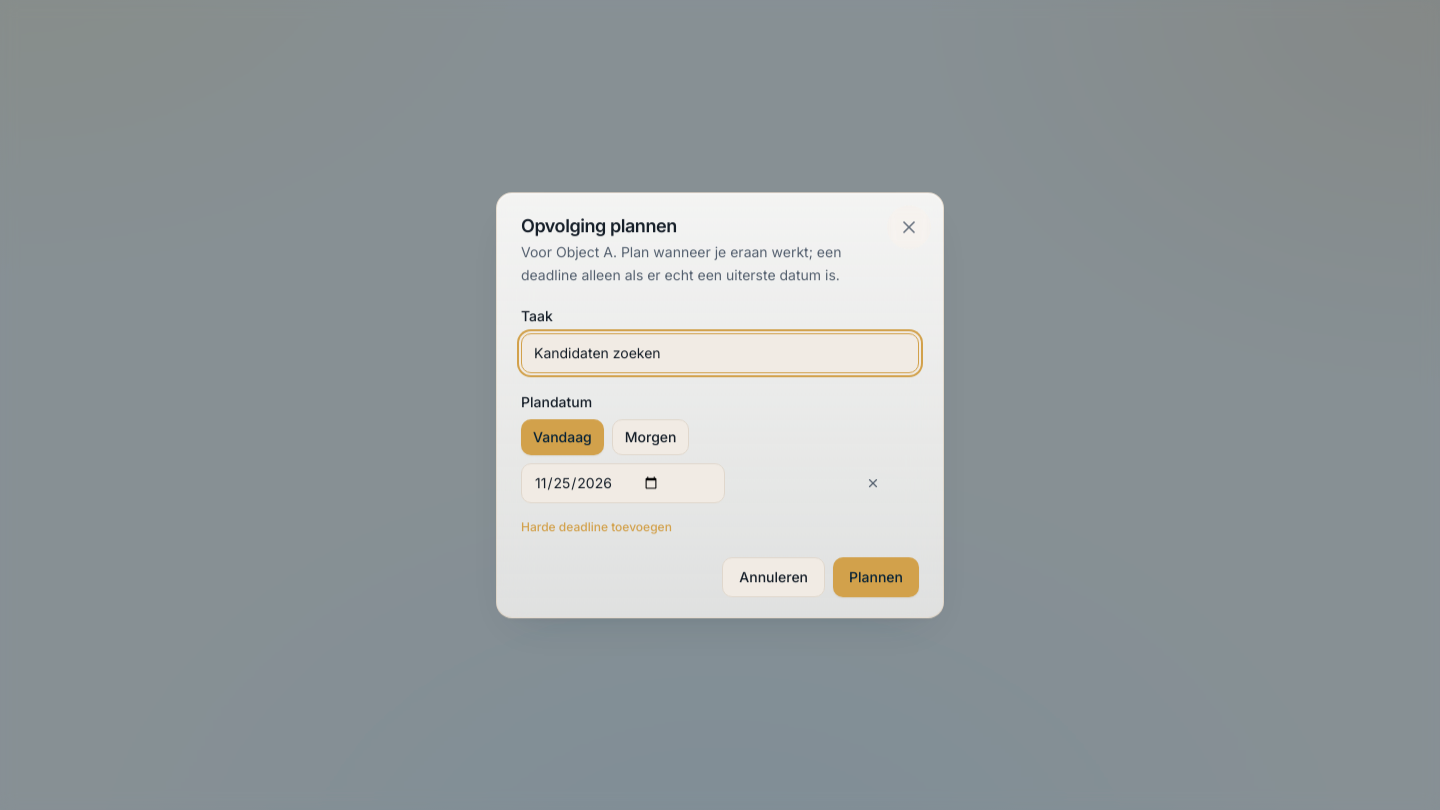
OpvolgingPlannenDialog › zonder deadline verdwijnt Harde deadline toevoegen na opslaan
The width and height of the screenshot is (1440, 810).
Click the button "Plannen" at [876, 577], box [833,557,919,597]
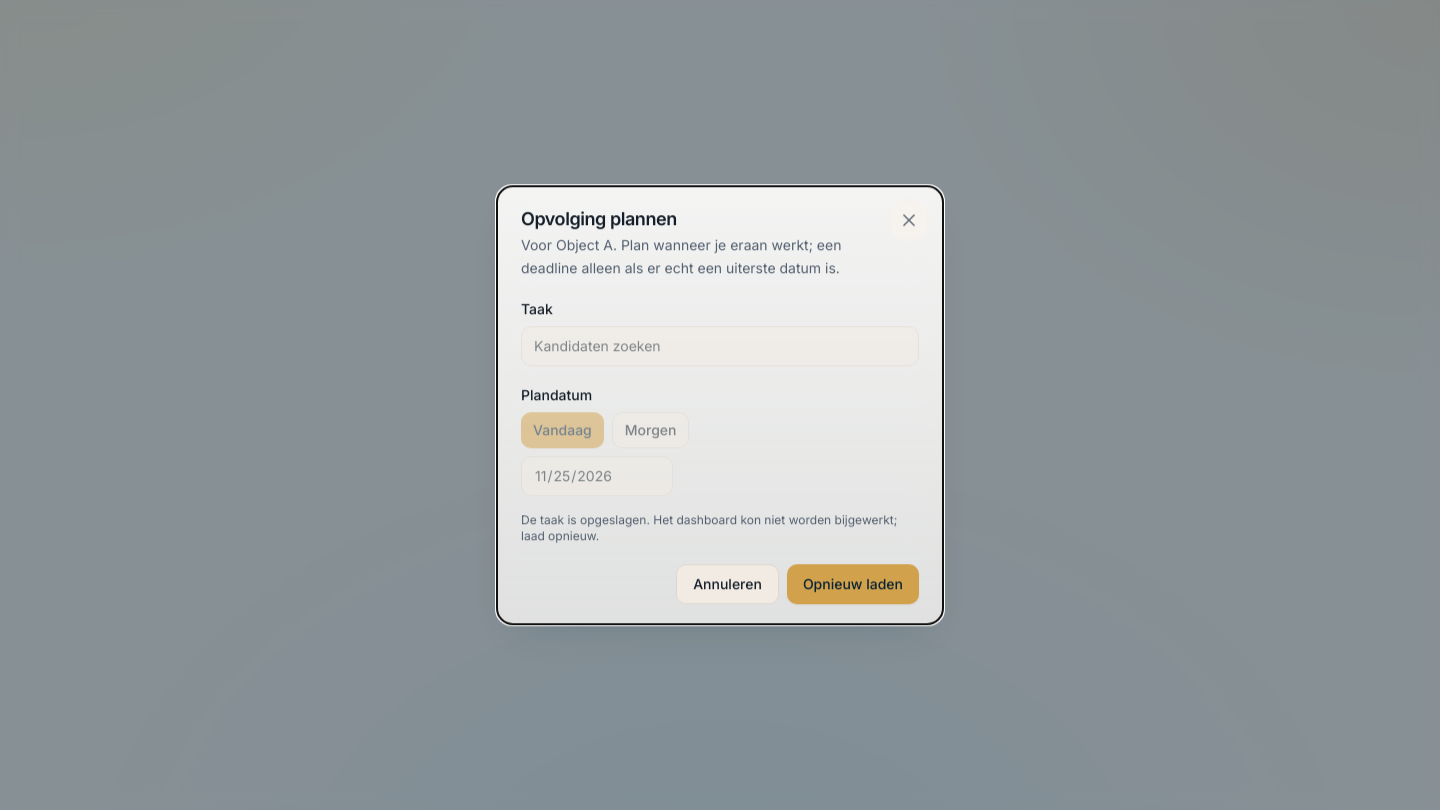
Expected: the button "Opnieuw laden" is shown, [787,564,919,604]
Expected: the button "Harde deadline toevoegen" is gone
